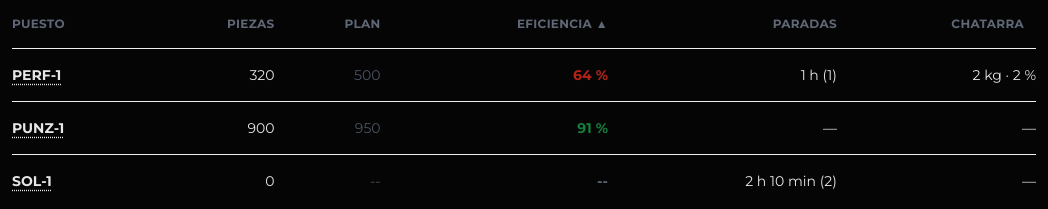
Tabla comparativa de puestos › ordena por columna en los dos sentidos
This screenshot has width=1048, height=209.
Click the button "Piezas": (251, 24) [227,8,274,40]
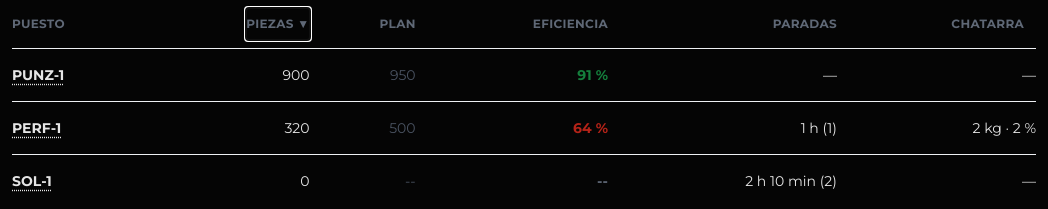
Click the button "Piezas ▼": (278, 24) [246,8,310,40]
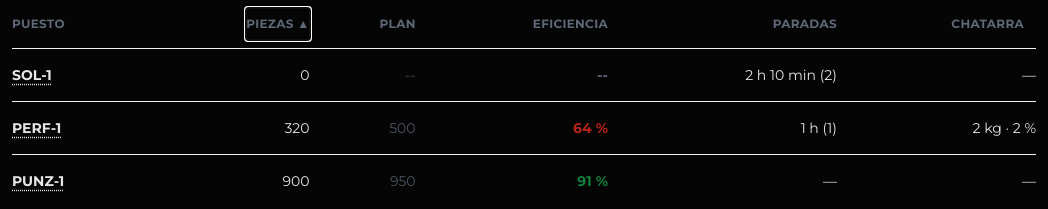
Expected: the column heading "Piezas ▲" has attribute aria-sort="ascending", [155,0,322,48]
